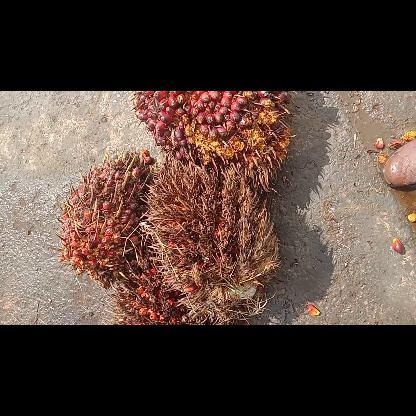TBS masak: (129, 90, 295, 192), (53, 148, 157, 288)
Terlalu masak: (138, 150, 282, 324), (104, 254, 194, 324)
